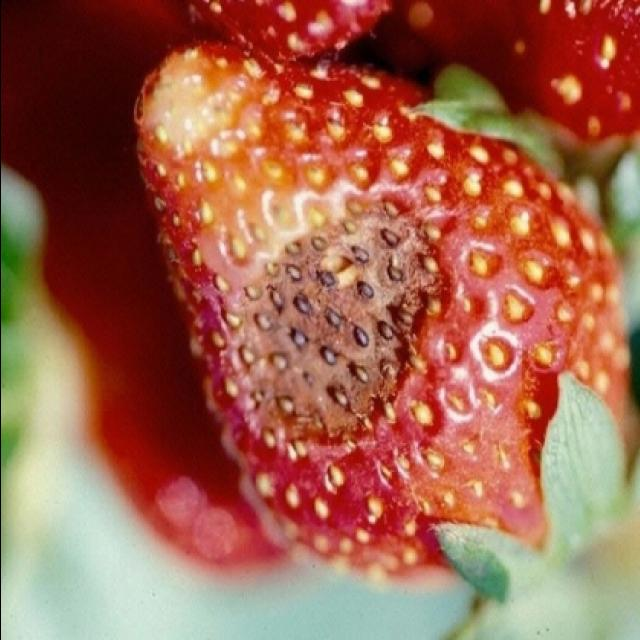Anthracnose Fruit Rot: (252, 211, 396, 425)
